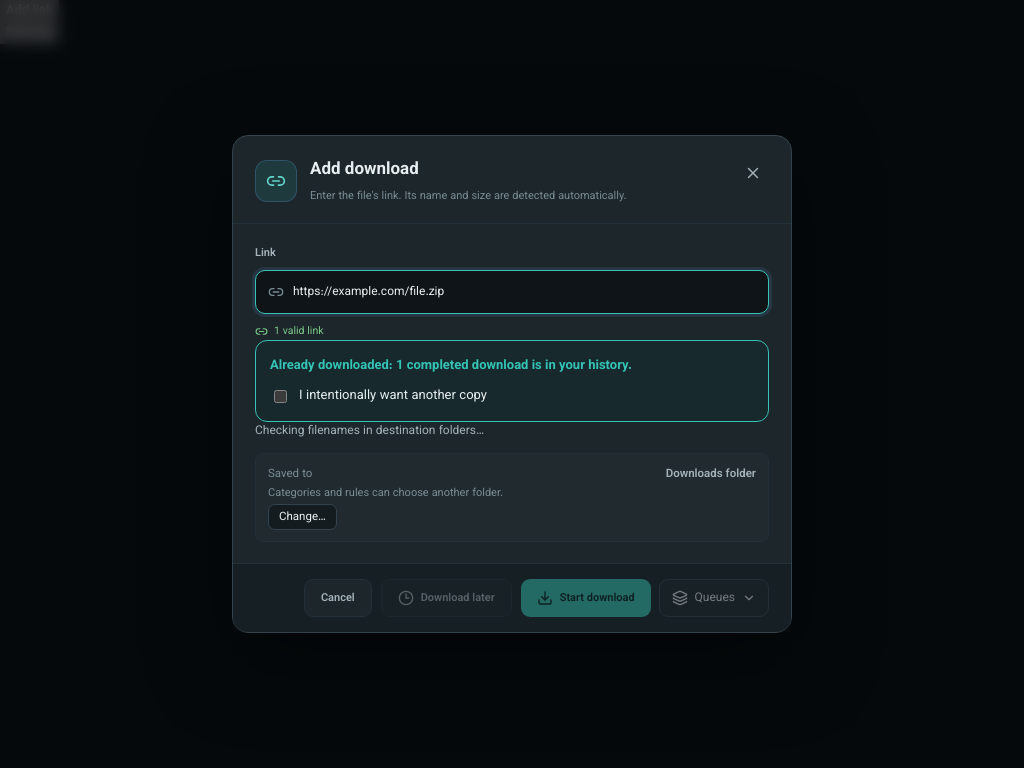
Test: add-download modal keyboard navigation › shows a concise history warning and requires explicit consent before another copy
This screenshot has width=1024, height=768.
Check: the 1st message shows "Already downloaded: 1", box [270,356,632,376]
Check: the button with class "add-download-modal__submit" is disabled, box [521,579,651,617]
Click the checkbox labelled "I intentionally want another copy". click: (280, 396)
box: [274,390,287,403]
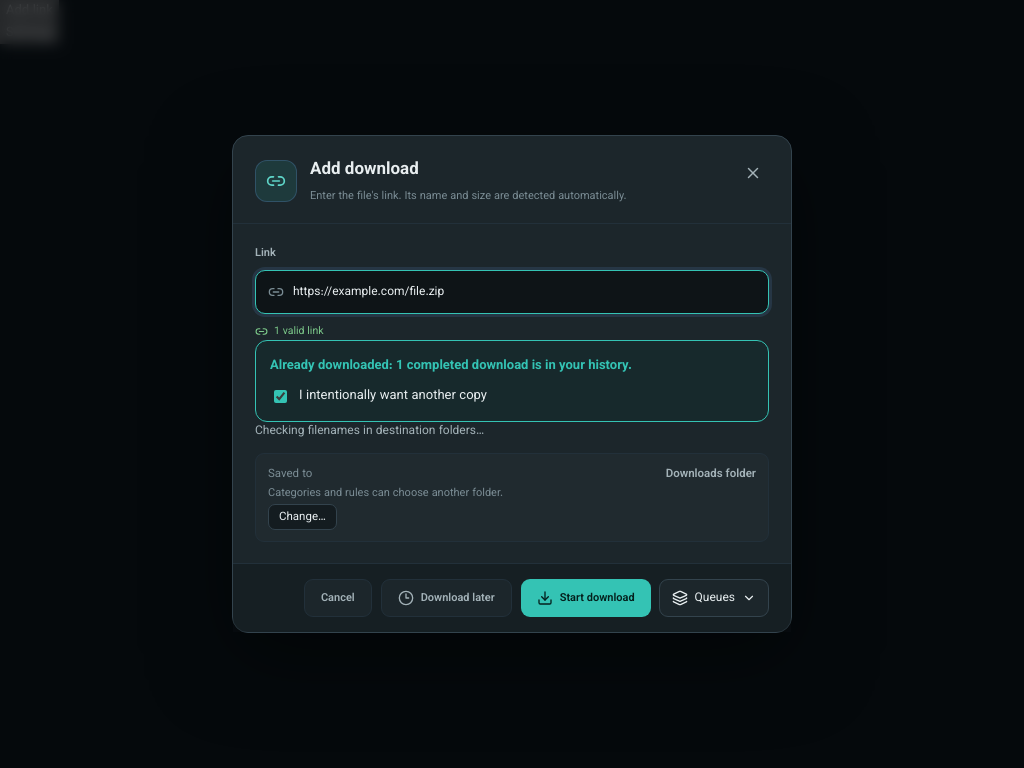
Check: the button with class "add-download-modal__submit" is enabled
Click the button with class "add-download-modal__submit". click: (586, 598)
box: [521,579,651,617]
Wait 80 ms
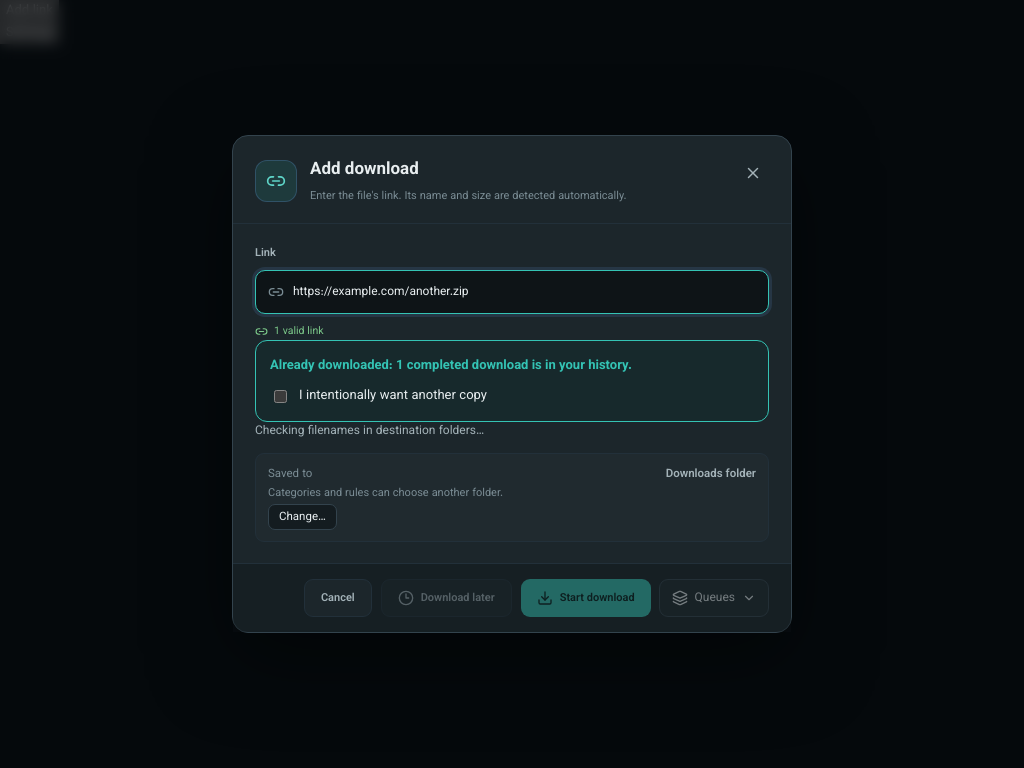
Check: the button with class "add-download-modal__submit" is disabled, box [521,579,651,617]
